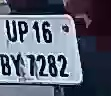1: (31, 21, 43, 46)
2: (35, 52, 49, 79), (58, 54, 71, 81)
6: (40, 21, 56, 45)
7: (23, 53, 39, 78)
8: (48, 55, 59, 81)
B: (1, 52, 14, 77)
P: (17, 20, 30, 44)
U: (4, 19, 19, 45)
Y: (10, 52, 24, 78)
